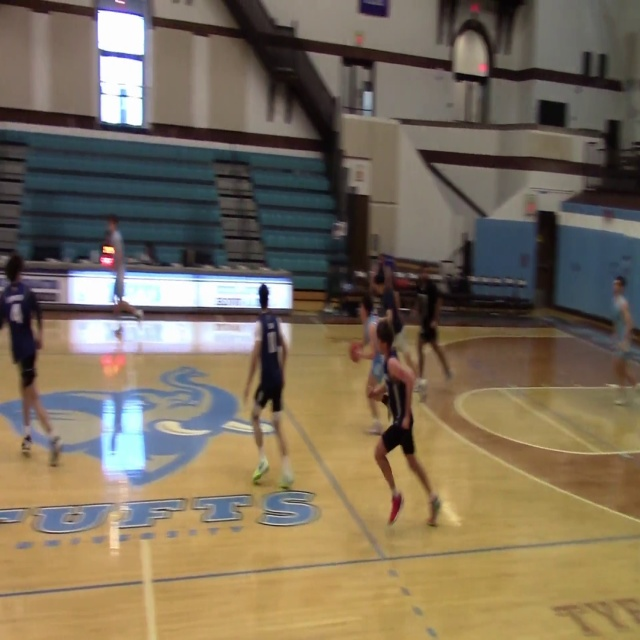Basketball: (387, 357, 415, 387), (349, 342, 362, 363)
